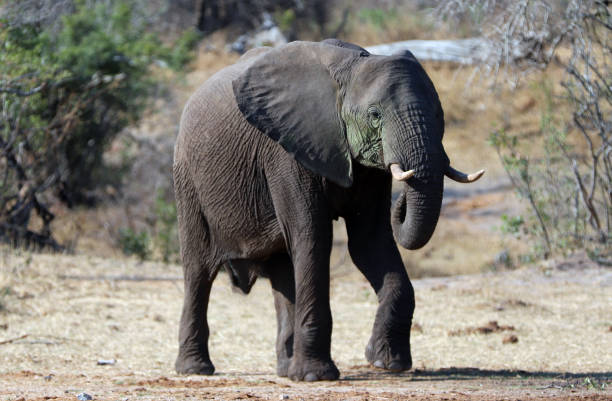africanelephant: (294, 56, 473, 262)
